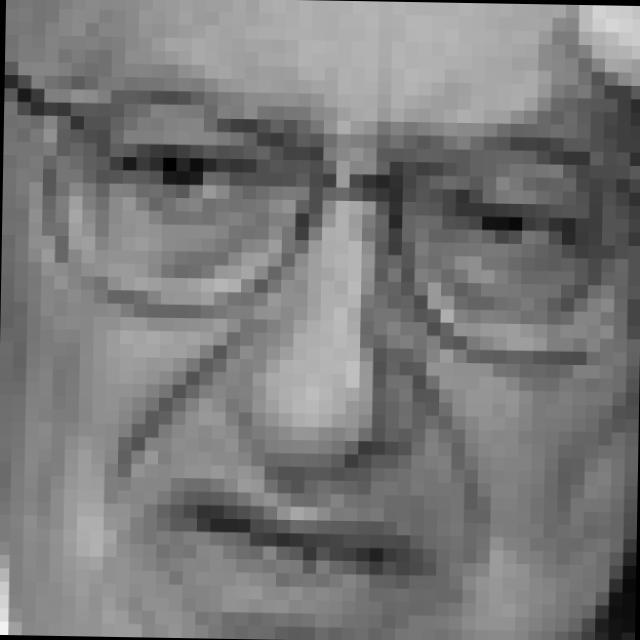disgust: (101, 108, 594, 640)
